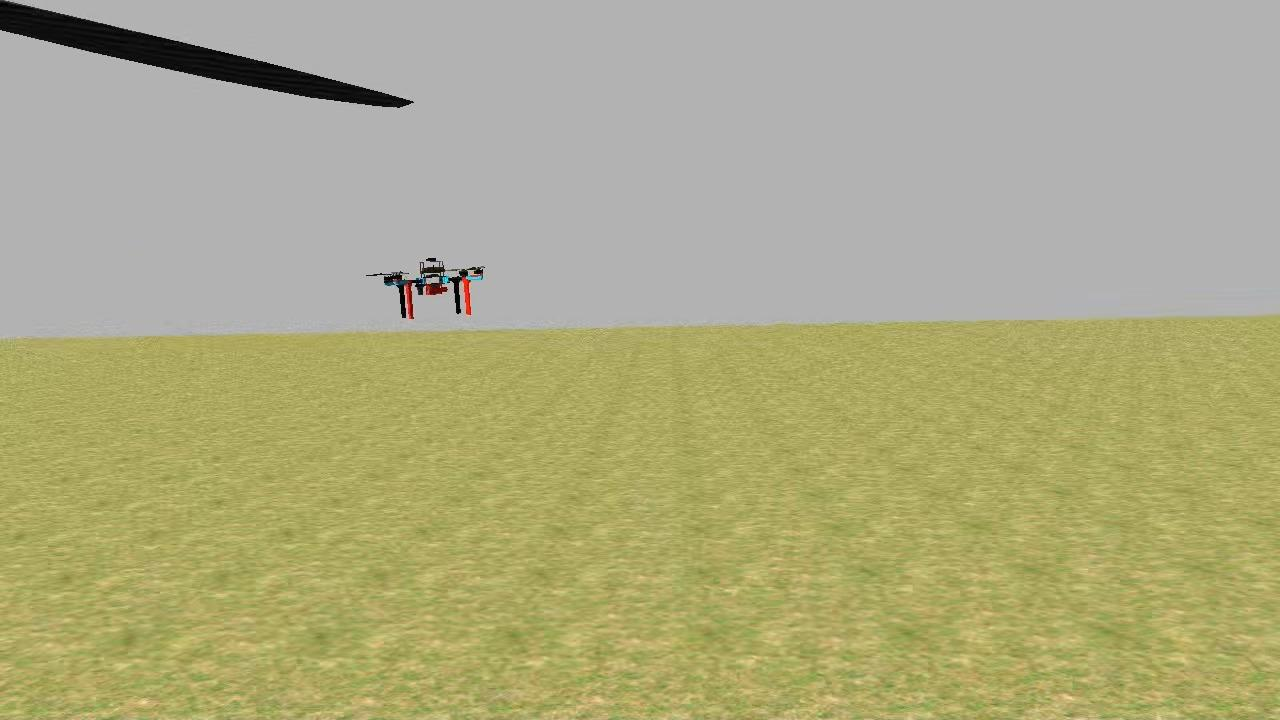UAV: (382, 250, 488, 330)
